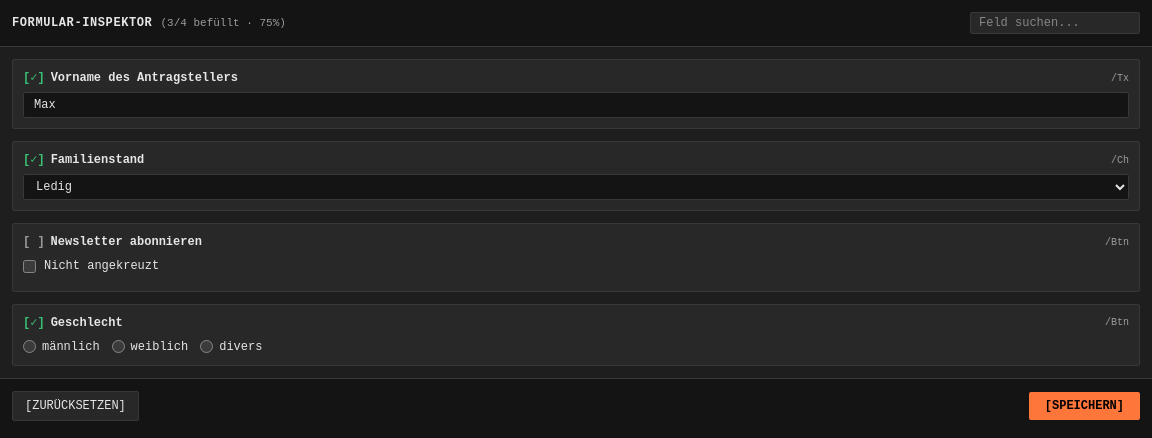
Scenario: FormInspector Component › filters fields using search input
Type "Familie" into the field with test id "inspector-search-input". click: point(1055, 23)
box: 970,12 -> 1140,34
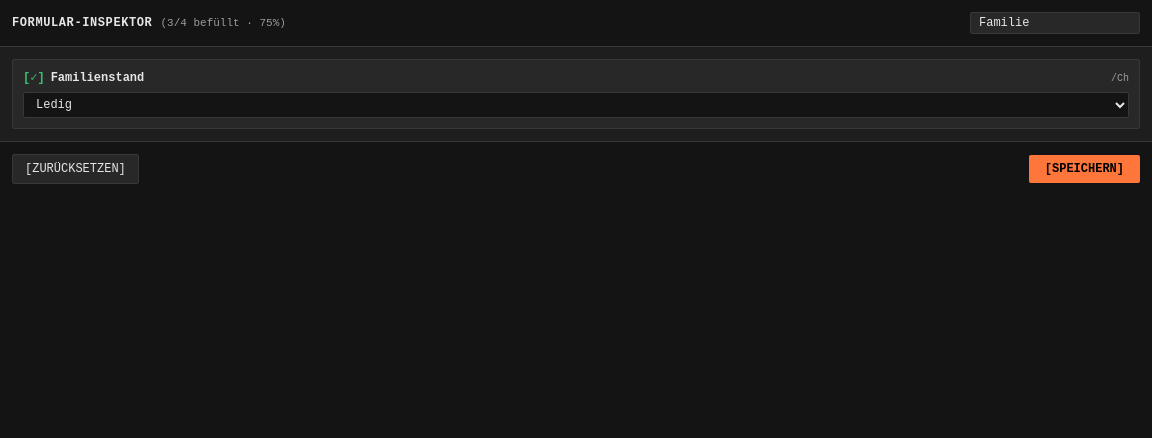
Expected: the element with test id "field-row-Familienstand" is shown, 12,59 -> 1140,129
Now the element with test id "field-row-Vorname" is gone
